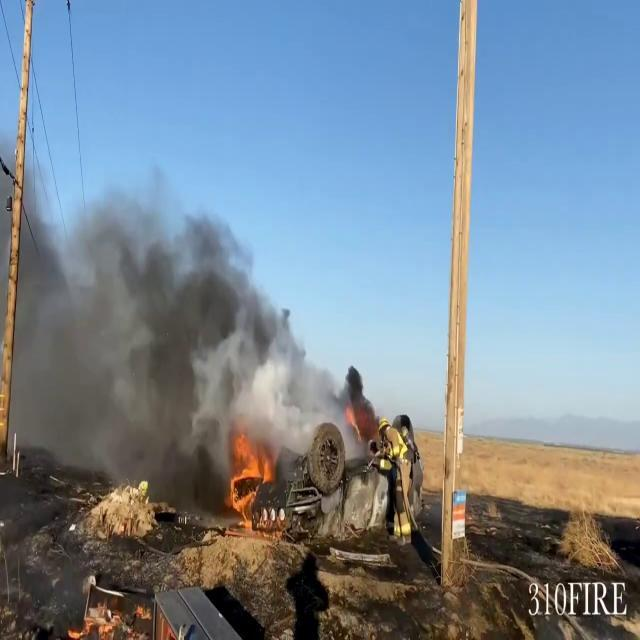Fire: (222, 424, 278, 527)
Smoke: (11, 180, 320, 510)
